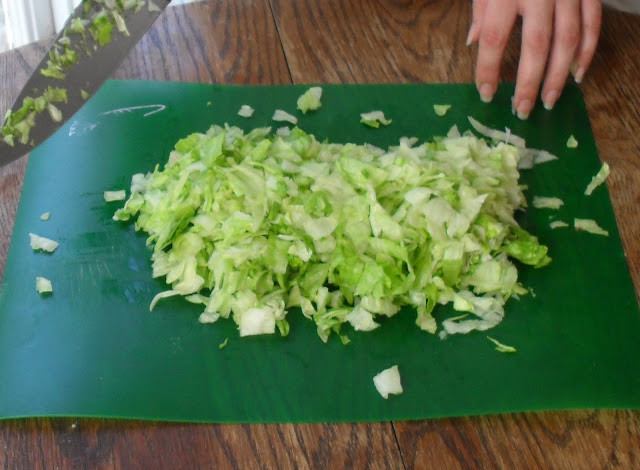chopped lettuce: (139, 127, 522, 335)
